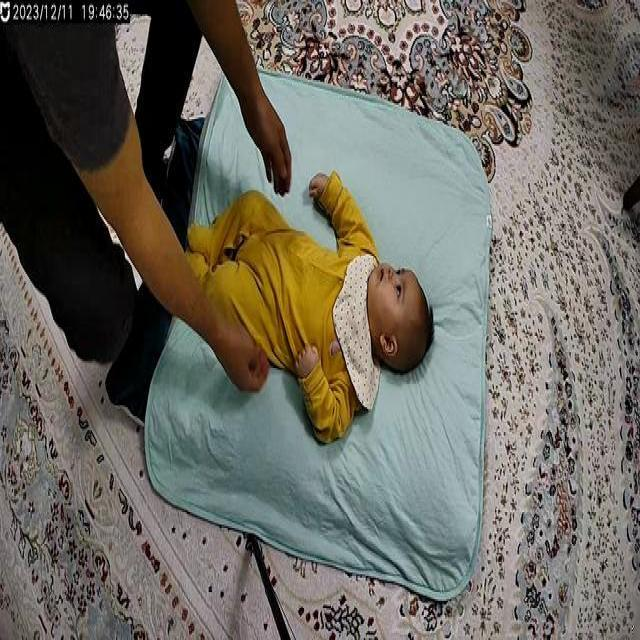baby: (178, 168, 436, 448)
